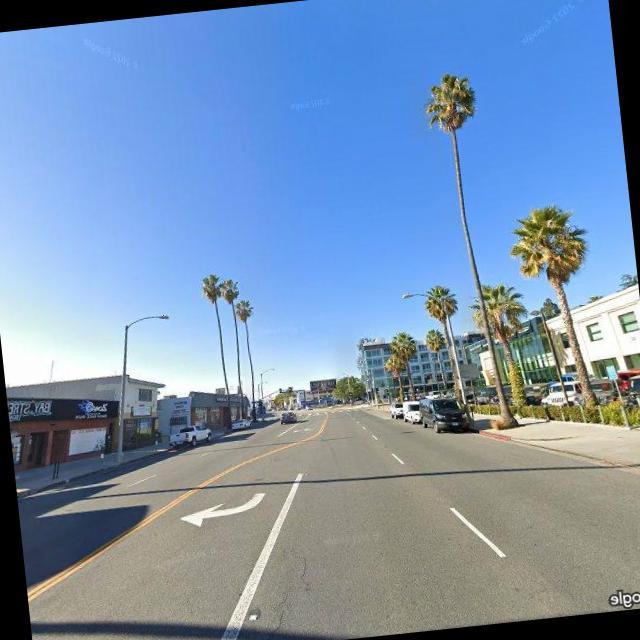crack: (258, 545, 321, 640)
